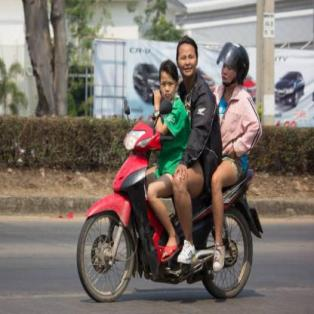Motocicleta: (70, 106, 264, 302)
